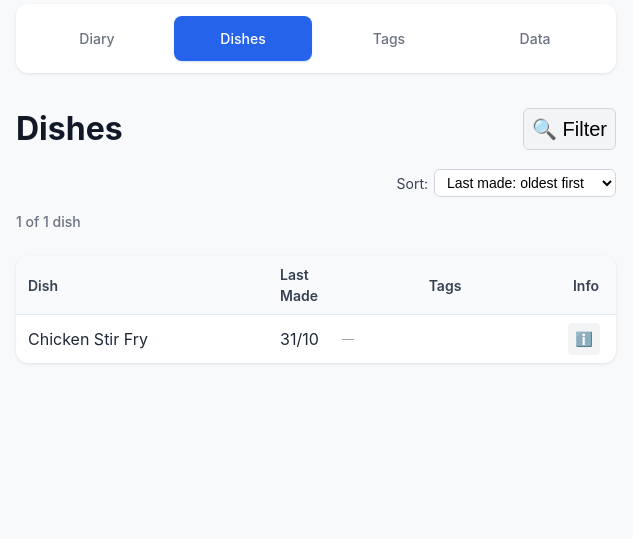
explains when filters hide every dish and can clear them
Click the button titled "Filter options" at (570,129), box [523,108,616,150]
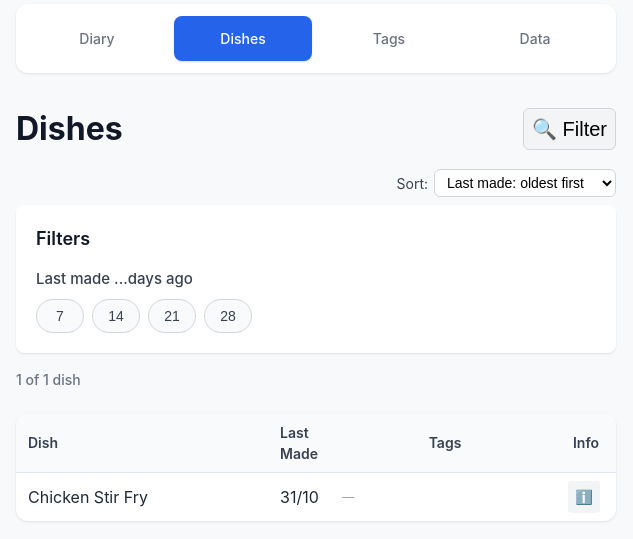
Made today, so a "7+ days ago" filter excludes it
Click the button "7" at (60,316), box [36,298,84,332]
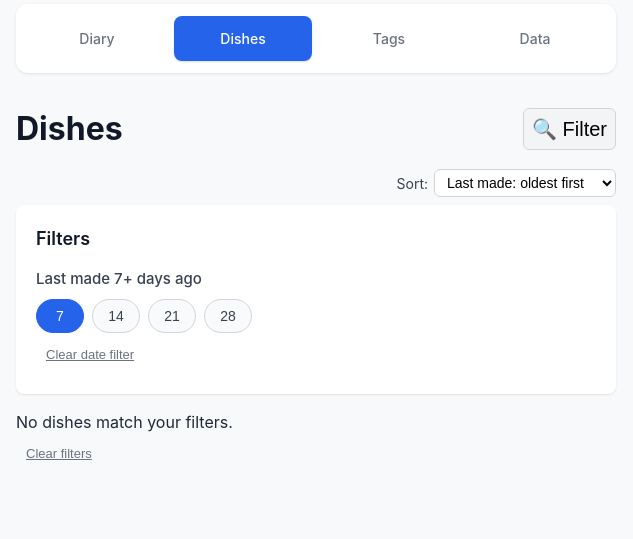
Expected: the text "No dishes match your filters." is shown, [16,410,233,434]
Click the button "Clear filters" at (59,453), box [16,442,102,464]
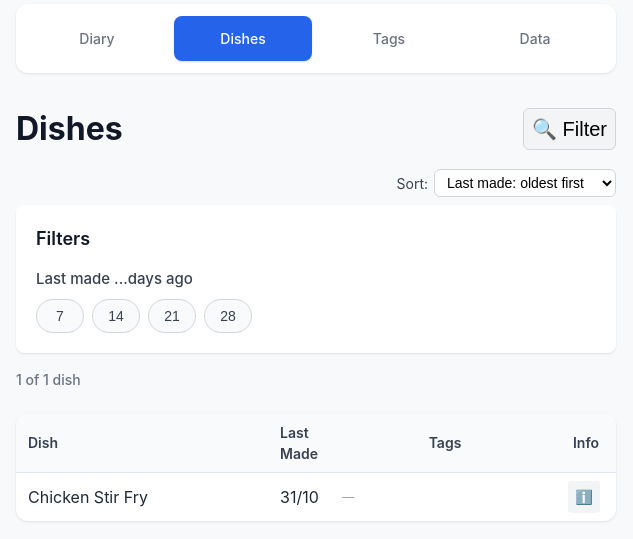
Expected: the text "Chicken Stir Fry" is shown, [16,472,268,520]
